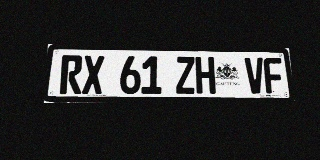1: (141, 56, 162, 94)
6: (120, 56, 141, 94)
F: (263, 58, 284, 94)
H: (195, 57, 216, 94)
R: (59, 55, 83, 94)
V: (244, 57, 265, 94)
X: (82, 55, 104, 94)
Z: (175, 57, 196, 94)
